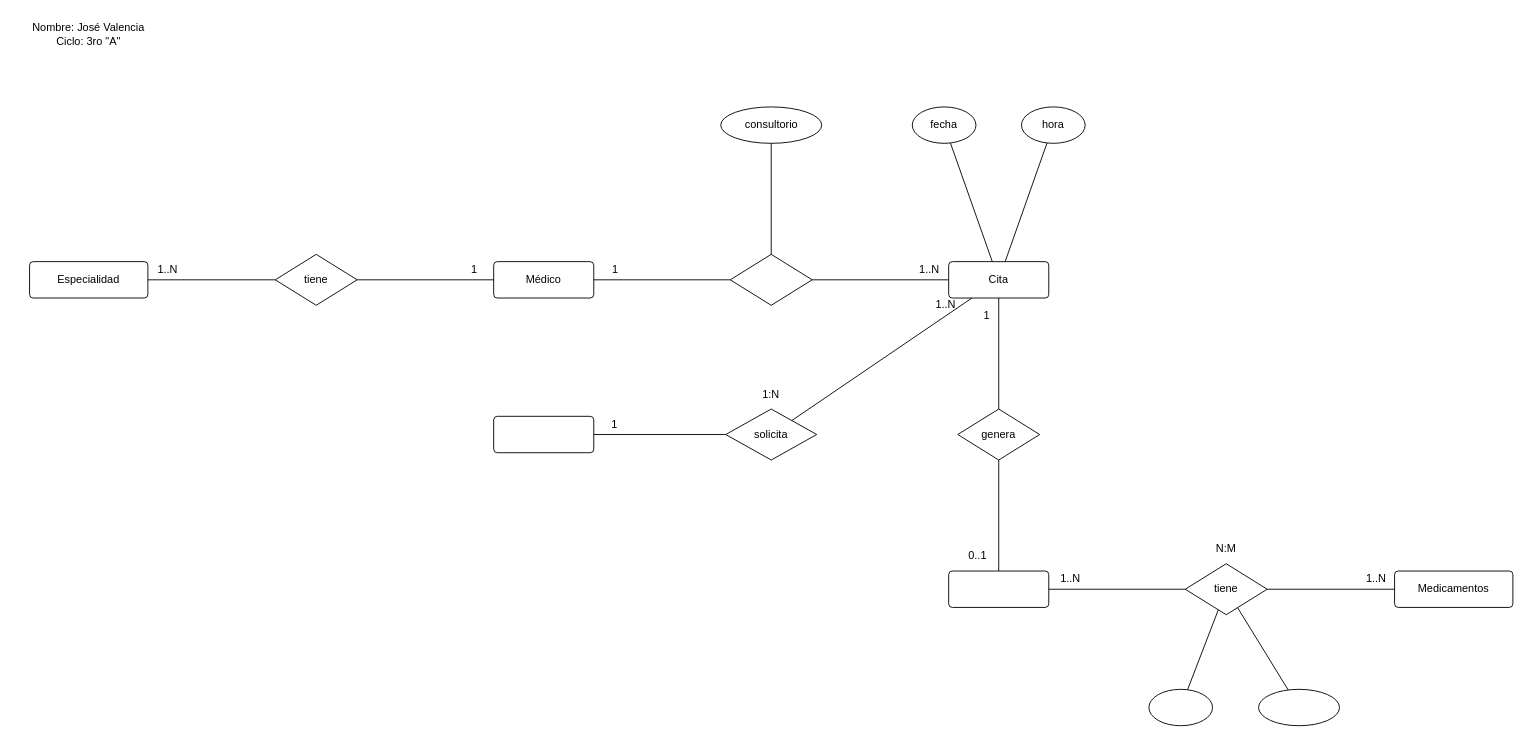
The diagram is 1529 pixels wide and 742 high, and some of its shapes have lost their labels. The centre of each missing label's shape, as x and y in pixels:
"atiende" goes at (x=770, y=279).
"dosis" goes at (x=1180, y=707).
"duración" goes at (x=1299, y=707).
"Paciente" goes at (x=543, y=434).
"Receta" goes at (x=998, y=588).
